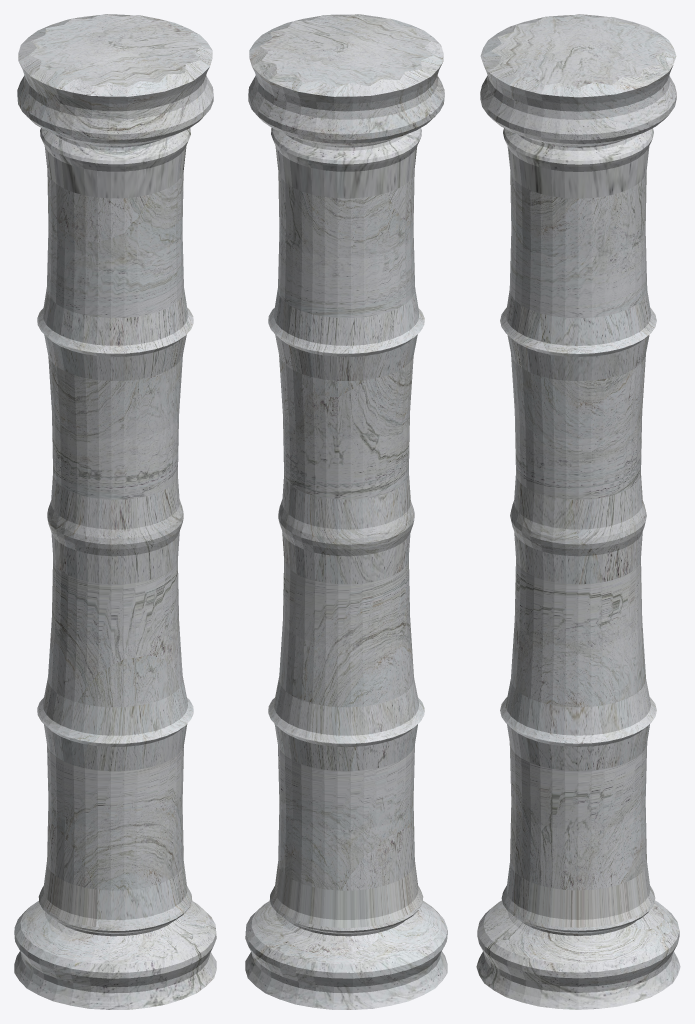
File: Column_Cylinder_B.fbx
The picture shows the model from 3 angles, left to right: view 1: azimuth 30°, elevation 25°; view 2: azimuth 150°, elevation 25°; view 3: azimuth 270°, elevation 25°; orthographic projection.
Parts seen in each view (by area): view 1: Column_Cyl_B; view 2: Column_Cyl_B; view 3: Column_Cyl_B.
Boxes of the visible parts, <box> form: Column_Cyl_B: <box>14,14,216,1009</box>; Column_Cyl_B: <box>245,14,447,1009</box>; Column_Cyl_B: <box>476,14,680,1009</box>.
Size of the model in its own units: 430 by 2152 by 430.
